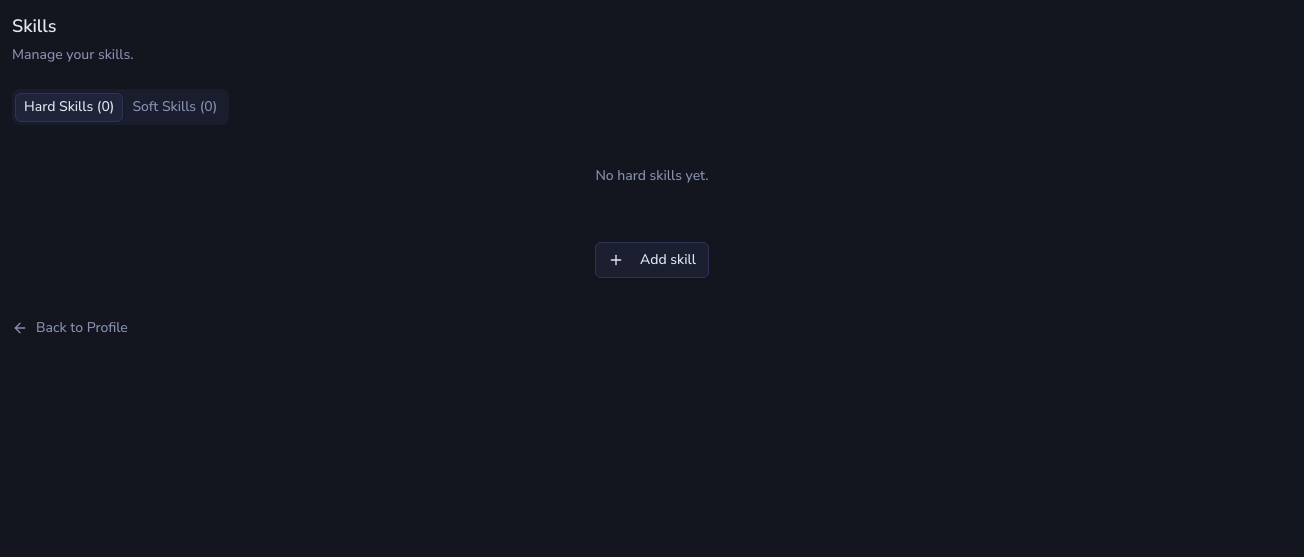
Test: SkillsEditor › add › shows form when Add skill is clicked
Click the button "Add skill" at (652, 260), box [595,242,709,278]
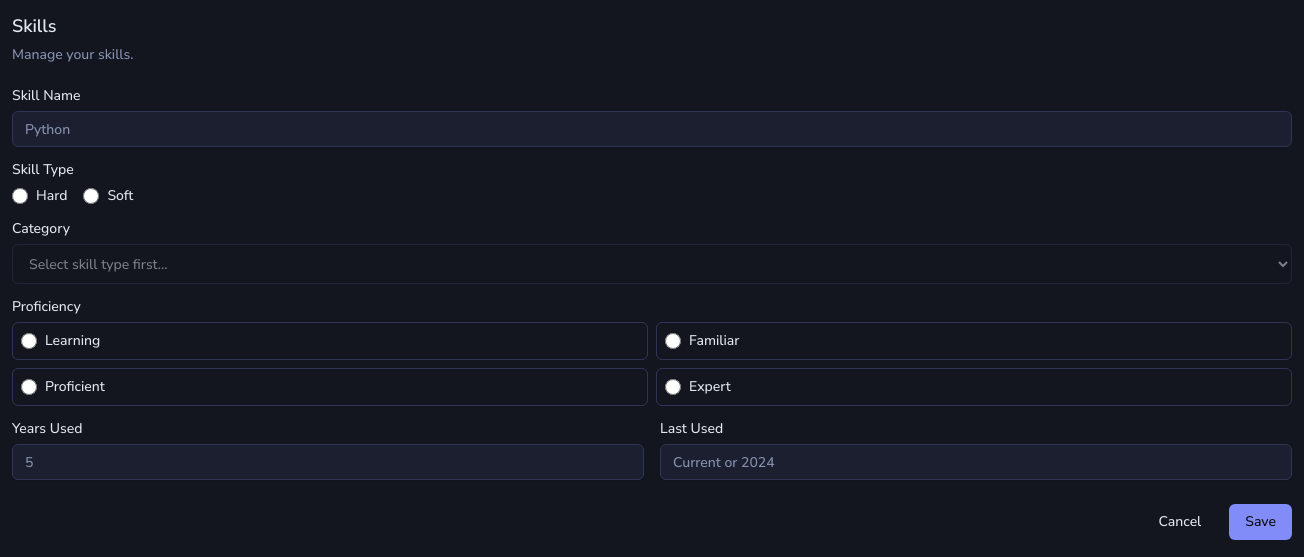
Check: the element with test id "skills-form" is shown
